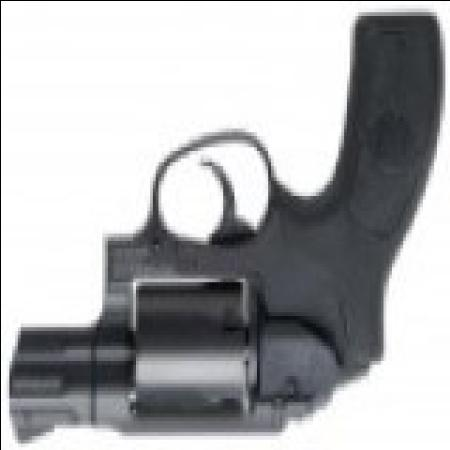Pistol: (9, 19, 448, 447)
